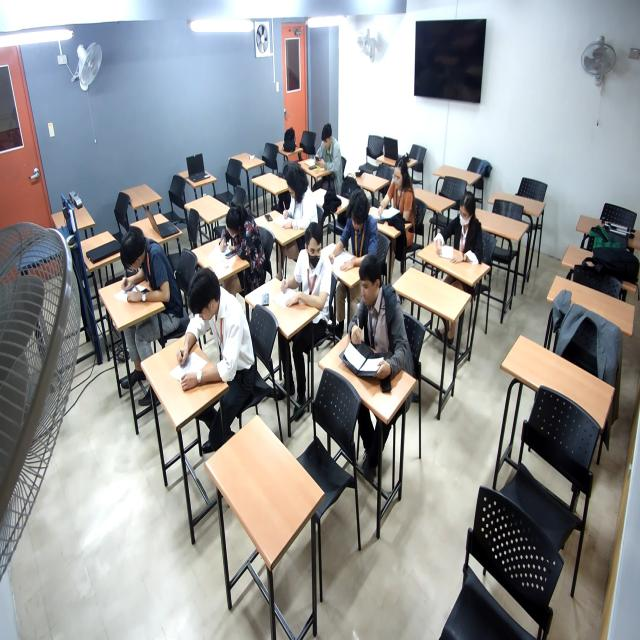read: (170, 276, 240, 403), (341, 255, 405, 389), (322, 194, 377, 278), (278, 239, 333, 319), (433, 187, 487, 266), (116, 225, 166, 305), (213, 201, 263, 261), (276, 171, 315, 242), (370, 165, 416, 223), (310, 125, 344, 180)
